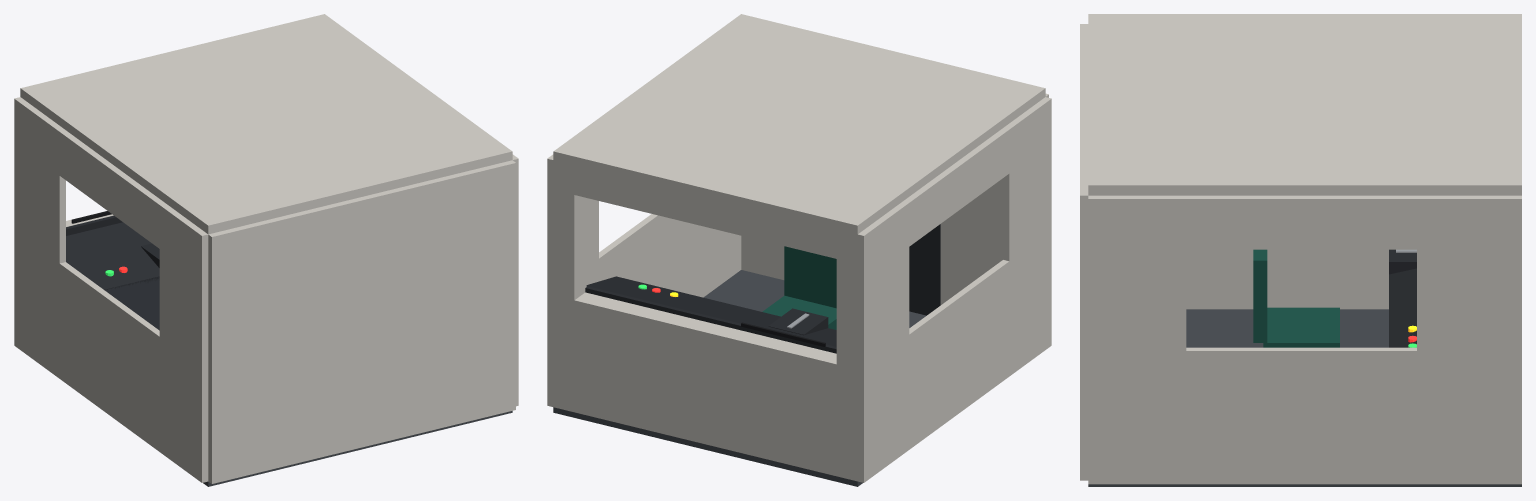
Rendered from CabBody.glb.
The picture shows the model from 3 angles, left to right: view 1: azimuth 30°, elevation 25°; view 2: azimuth 150°, elevation 25°; view 3: azimuth 270°, elevation 25°; orthographic projection. The views are drawn at different scales.
Parts seen in each view (by area): view 1: CabBody; view 2: CabBody; view 3: CabBody.
Boxes of the visible parts, x1,y1,x2,y2 form: CabBody: (14, 14, 518, 486); CabBody: (547, 14, 1051, 486); CabBody: (1080, 14, 1521, 486).
Bounding box in the file's own units: 3.02 × 2.38 × 3.16.
